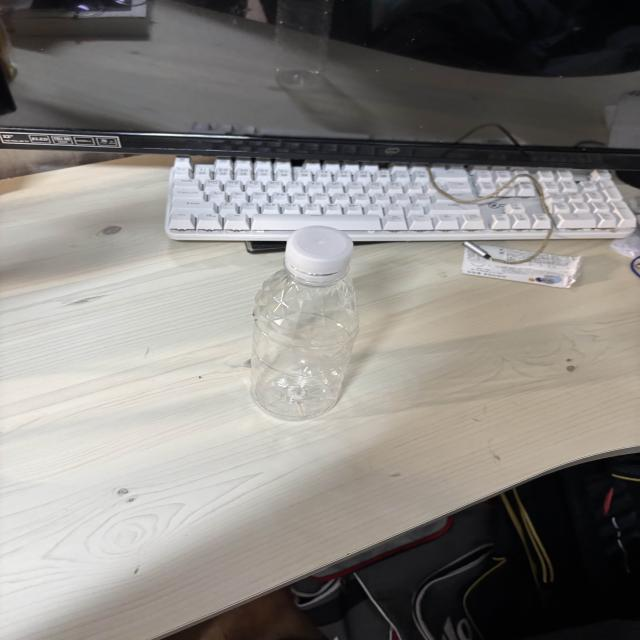Plastic: (230, 220, 366, 427)
